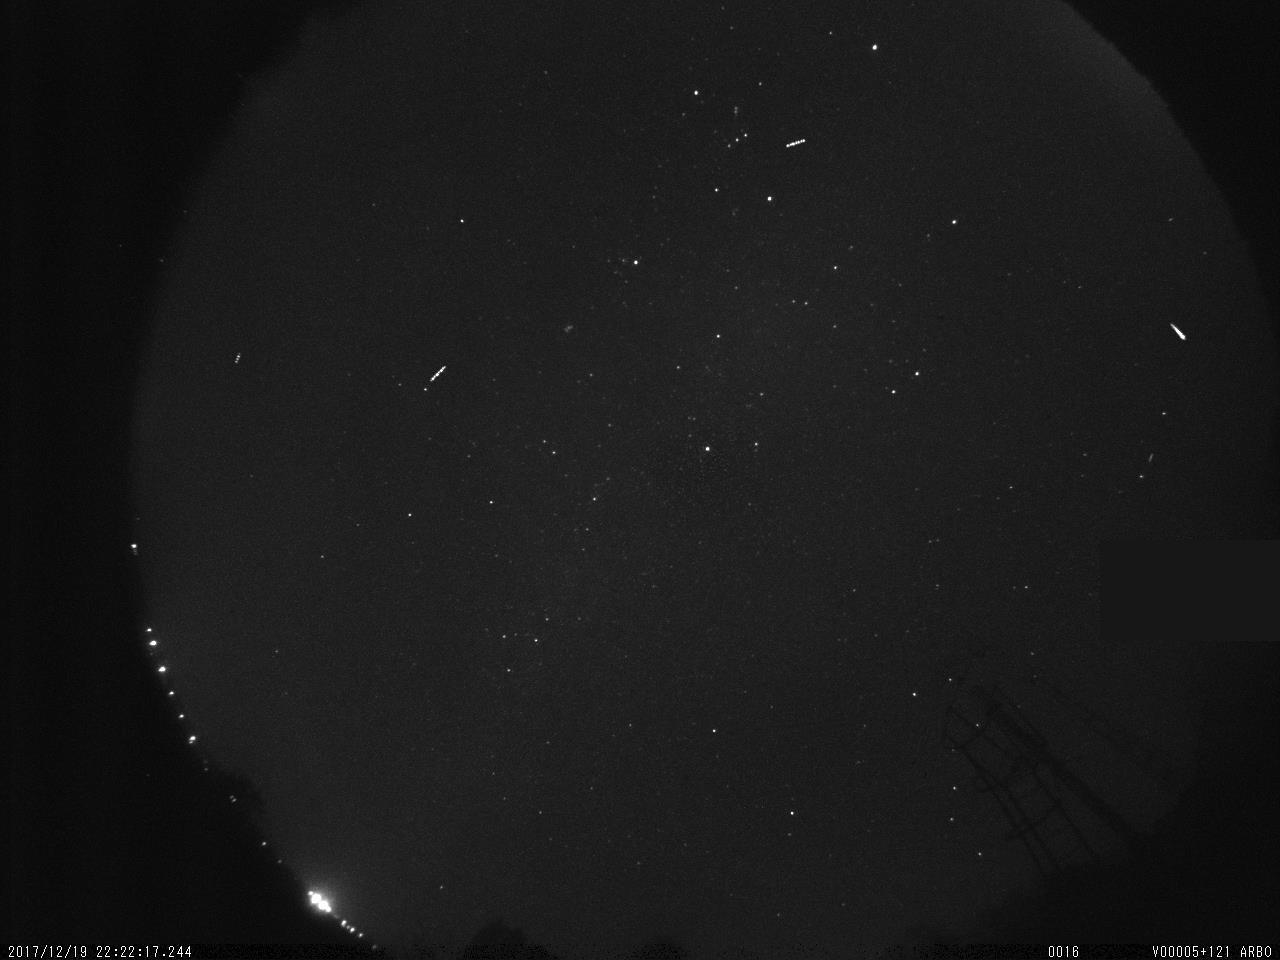meteor: (1162, 318, 1193, 345)
satelite: (775, 131, 813, 154), (426, 359, 451, 390)
